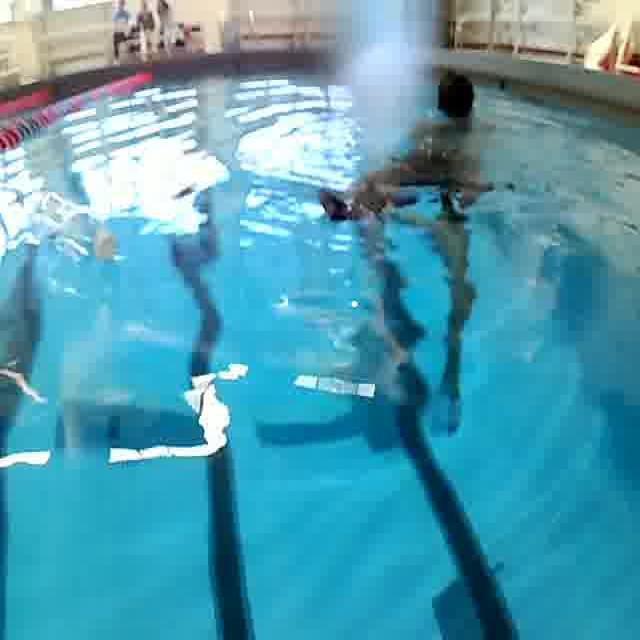Bottle: (34, 185, 126, 268)
